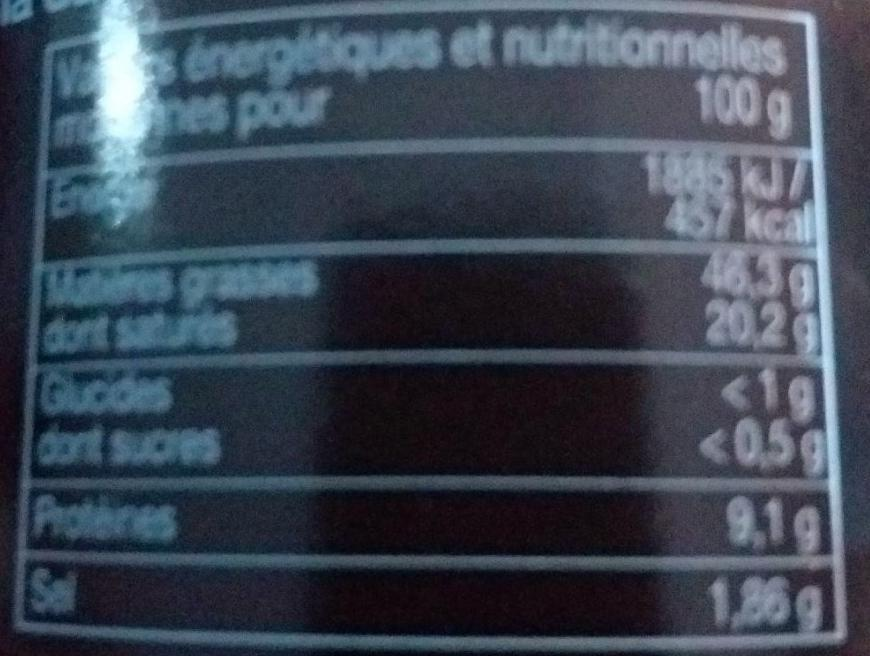column: (33, 174, 318, 613), (642, 153, 820, 631)
line: (54, 28, 793, 144), (37, 164, 814, 243), (34, 566, 823, 634), (35, 495, 818, 550), (40, 373, 817, 419), (38, 426, 823, 468), (39, 313, 819, 353), (43, 261, 814, 301)
table: (21, 4, 850, 648)
